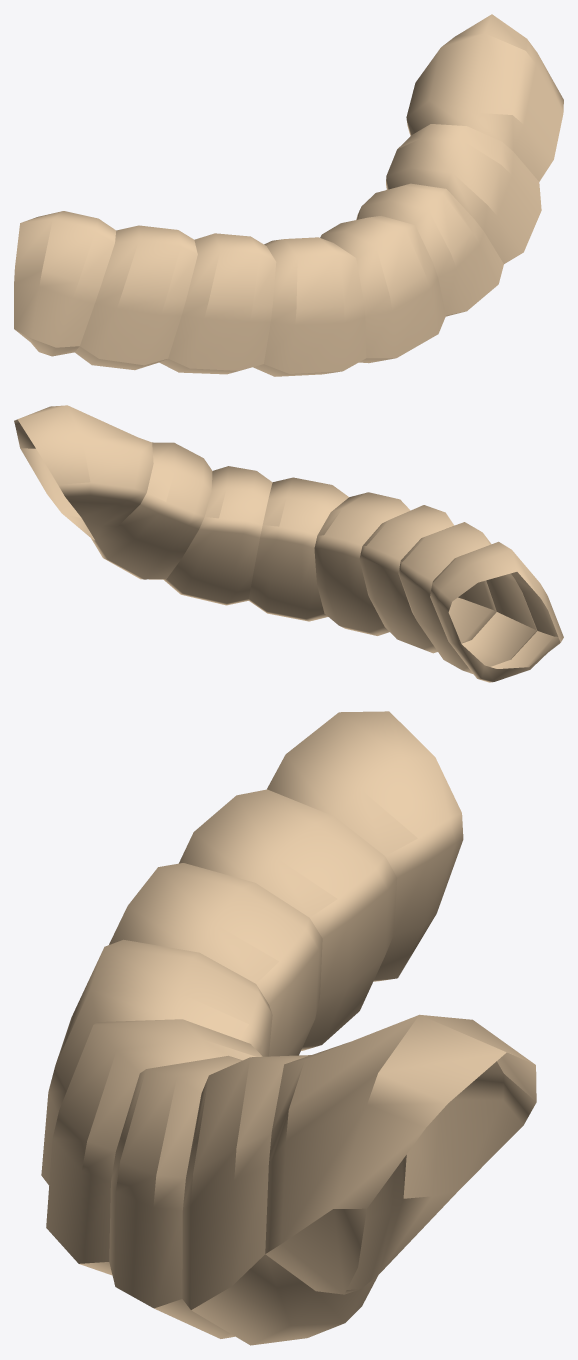
File: colon_transverso.glb
3 views of the same model, one above another, from view 1: azimuth 30°, elevation 25°; view 2: azimuth 150°, elevation 25°; view 3: azimuth 270°, elevation 25° (orthographic). The views are drawn at different scales.
Visible parts, largest first — view 1: colon_transverso; view 2: colon_transverso; view 3: colon_transverso.
Boxes of the visible parts, bbox=[...] form: colon_transverso: bbox=[14, 14, 563, 376]; colon_transverso: bbox=[14, 405, 563, 682]; colon_transverso: bbox=[41, 711, 536, 1345].
Size of the model in its own units: 0.1895 by 0.0723 by 0.0771.
